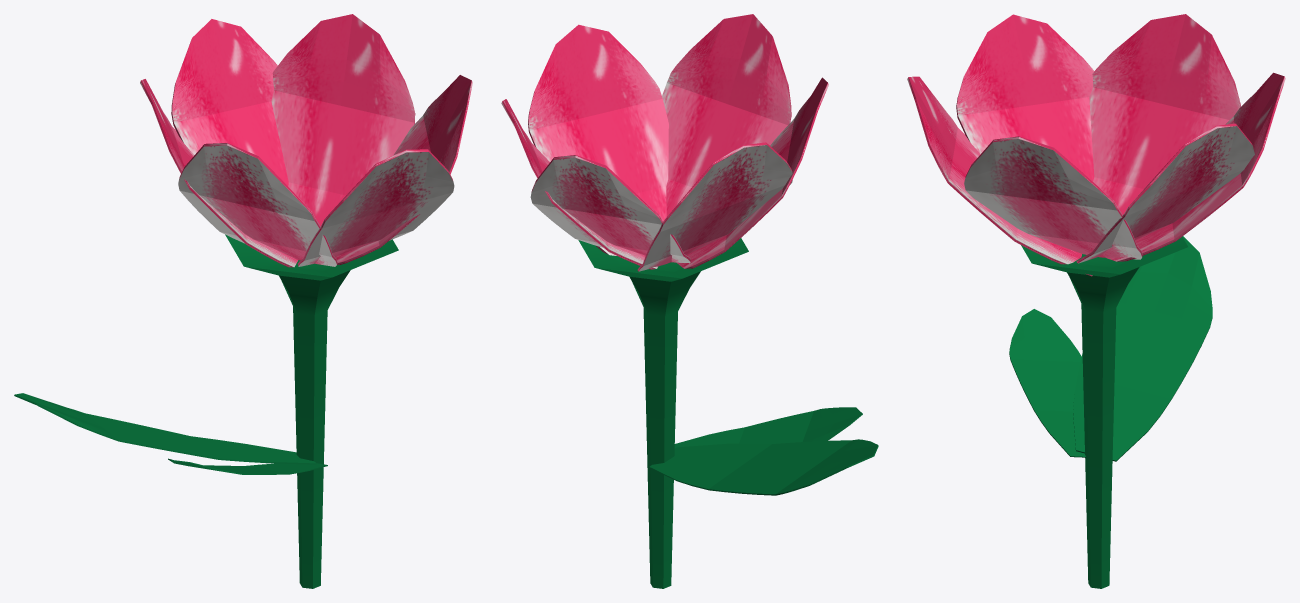
File: Flower_Tower.fbx
3 views of the same model, side by side, from view 1: azimuth 30°, elevation 25°; view 2: azimuth 150°, elevation 25°; view 3: azimuth 270°, elevation 25° (orthographic).
Parts seen in each view (by area): view 1: Flower1; view 2: Flower1; view 3: Flower1.
Boxes of the visible parts, x1,y1,x2,y2 form: Flower1: (14,14,472,588); Flower1: (501,14,878,588); Flower1: (907,14,1285,588).
Bounding box in the file's own units: 119 × 149 × 100.
2 materials, 1 textured.
